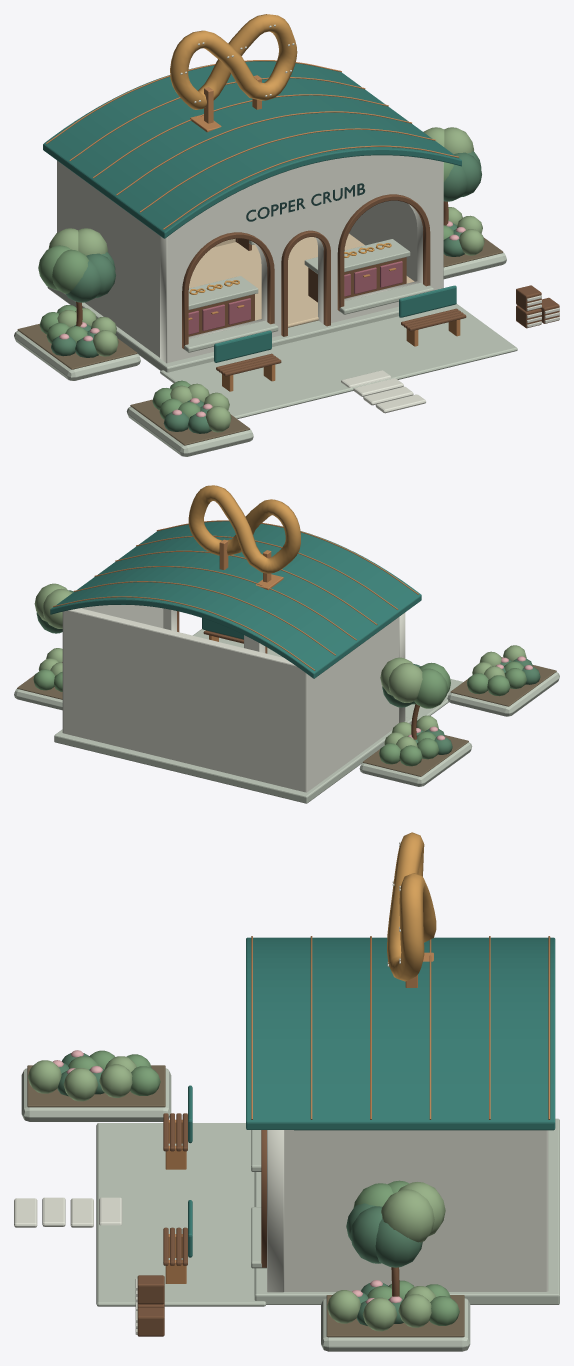
Rendered from copper-bakery.glb.
3 views of the same model, one above another, from view 1: azimuth 30°, elevation 25°; view 2: azimuth 150°, elevation 25°; view 3: azimuth 270°, elevation 25° (orthographic). The views are drawn at different scales.
Parts seen in each view (by area): view 1: Copper_CourtyardMesh, Copper_FurnishedInterior, Copper_ContinuousBarrelRoof, Copper_PiercedFacade, Pretzel_BraidedLoaf, Copper_Foundation, Copper_BakeryLettering; view 2: Copper_FurnishedInterior, Copper_ContinuousBarrelRoof, Copper_CourtyardMesh, Pretzel_BraidedLoaf, Copper_Foundation, Copper_PiercedFacade; view 3: Copper_CourtyardMesh, Copper_ContinuousBarrelRoof, Copper_FurnishedInterior, Pretzel_BraidedLoaf, Copper_Foundation, Copper_PiercedFacade.
Part boxes in pixels (box(x1,y1,x2,y2)): Copper_CourtyardMesh: box(14, 127, 559, 456); Copper_FurnishedInterior: box(46, 60, 458, 357); Copper_ContinuousBarrelRoof: box(43, 61, 461, 238); Copper_PiercedFacade: box(160, 155, 443, 363); Pretzel_BraidedLoaf: box(170, 14, 297, 109); Copper_Foundation: box(47, 287, 398, 372); Copper_BakeryLettering: box(246, 183, 365, 221); Copper_FurnishedInterior: box(53, 520, 418, 792); Copper_ContinuousBarrelRoof: box(50, 521, 421, 678); Copper_CourtyardMesh: box(14, 583, 559, 786); Pretzel_BraidedLoaf: box(188, 485, 300, 573); Copper_Foundation: box(54, 717, 411, 803); Copper_PiercedFacade: box(163, 608, 405, 722); Copper_CourtyardMesh: box(14, 1050, 470, 1351); Copper_ContinuousBarrelRoof: box(246, 937, 555, 1130); Copper_FurnishedInterior: box(251, 936, 550, 1291); Pretzel_BraidedLoaf: box(387, 832, 436, 981); Copper_Foundation: box(254, 1118, 559, 1304); Copper_PiercedFacade: box(267, 1130, 284, 1292).
Bounding box in the file's own units: 16.35 × 9.6 × 13.51.
